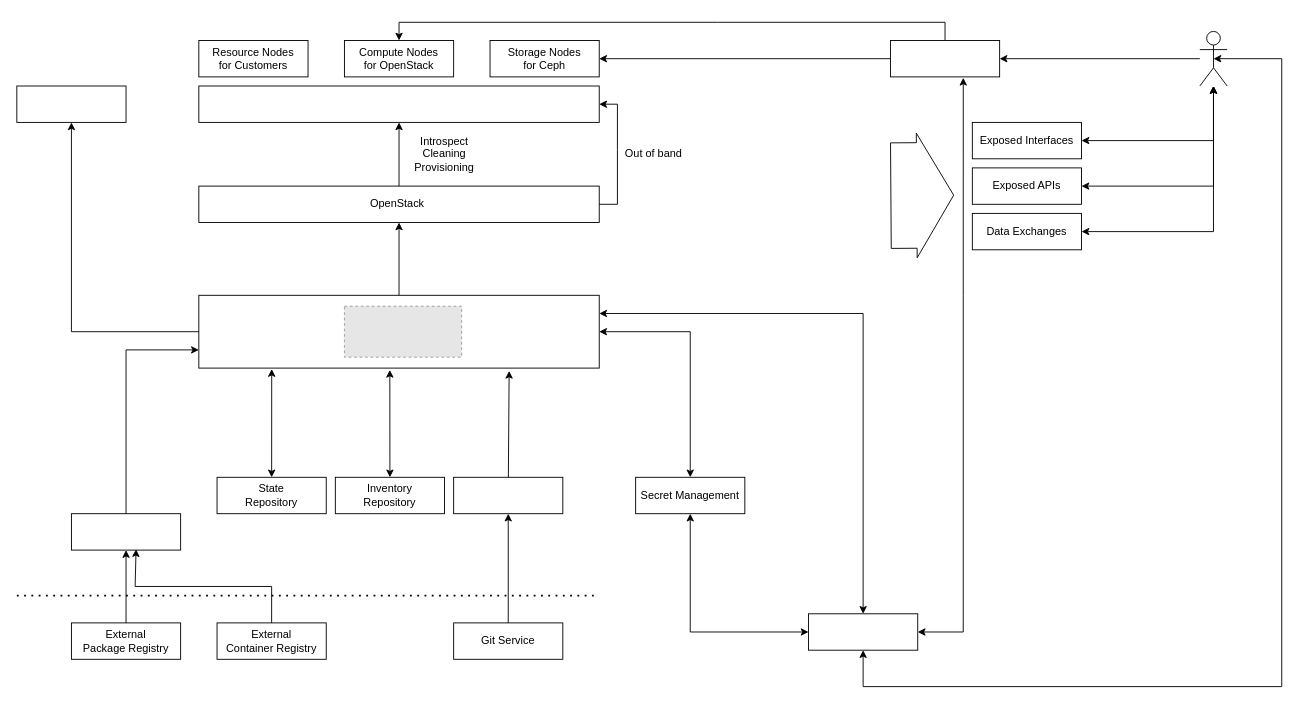
Image size: 1306x711. Some labels were removed from this diagram. Grey dashed boxes stand in for pictures. Here are the shapes that lost their labels. From the top down, the centre of each, then its label:
At (945,58): "Boundary / Teleport".
At (1213,58): "Actor".
At (71,103): "Network resources".
At (398,103): "Bare-metal Nodes".
At (508,495): "Configuration Repository".
At (126,531): "Internal Registry".
At (863,631): "Change Management".
